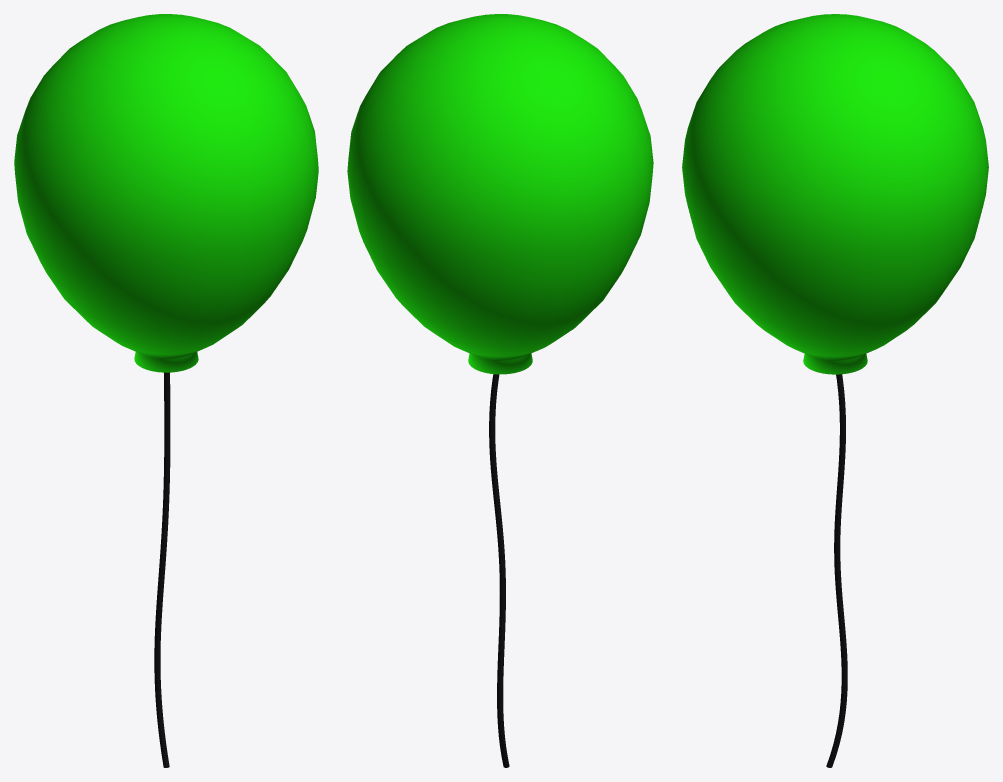
File: balloon 4.fbx
The picture shows the model from 3 angles, left to right: view 1: azimuth 30°, elevation 25°; view 2: azimuth 150°, elevation 25°; view 3: azimuth 270°, elevation 25°; orthographic projection.
Parts seen in each view (by area): view 1: Sphere, NurbsPath; view 2: Sphere, NurbsPath; view 3: Sphere, NurbsPath.
Boxes of the visible parts, box(x1,y1,x2,y2) form: Sphere: box(14, 14, 318, 372); NurbsPath: box(154, 372, 170, 767); Sphere: box(347, 14, 653, 374); NurbsPath: box(489, 374, 509, 767); Sphere: box(682, 14, 988, 374); NurbsPath: box(826, 374, 847, 767).
Bounding box in the file's own units: 99.24 × 264 × 99.24.
